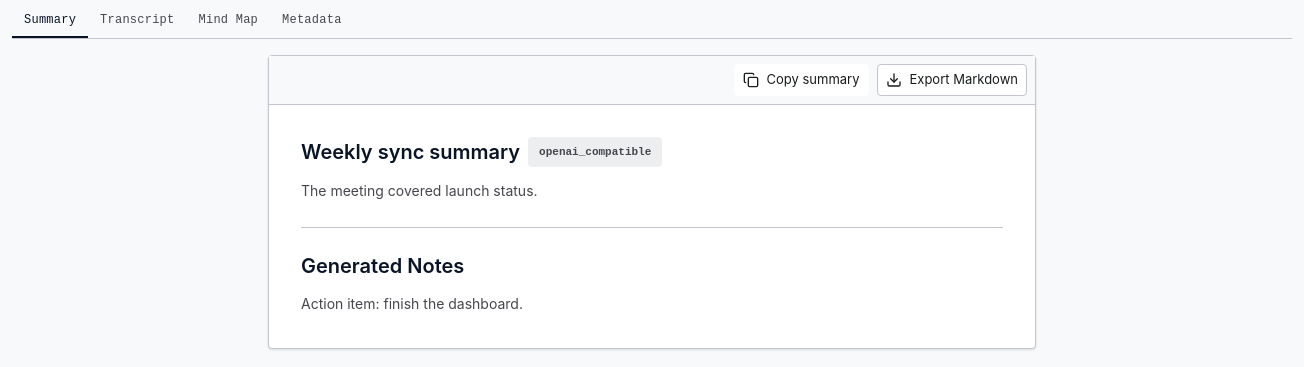
Test: RecordingResults › renders transcript segments in segment index order
The width and height of the screenshot is (1304, 367).
expect the heading "Weekly sync summary" is shown: met, box x1=301 y1=138 x2=520 y2=166
Step 1. Click the tab "Transcript" → point(137, 25), box x1=88 y1=12 x2=186 y2=38
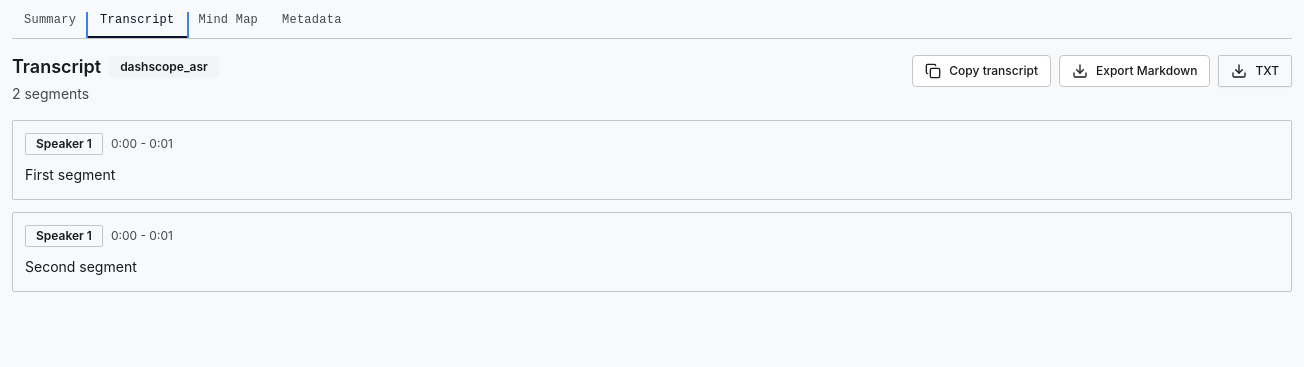
expect the text "First segment" is shown: met, box x1=25 y1=166 x2=115 y2=183
expect the text "Second segment" is shown: met, box x1=25 y1=258 x2=137 y2=275
